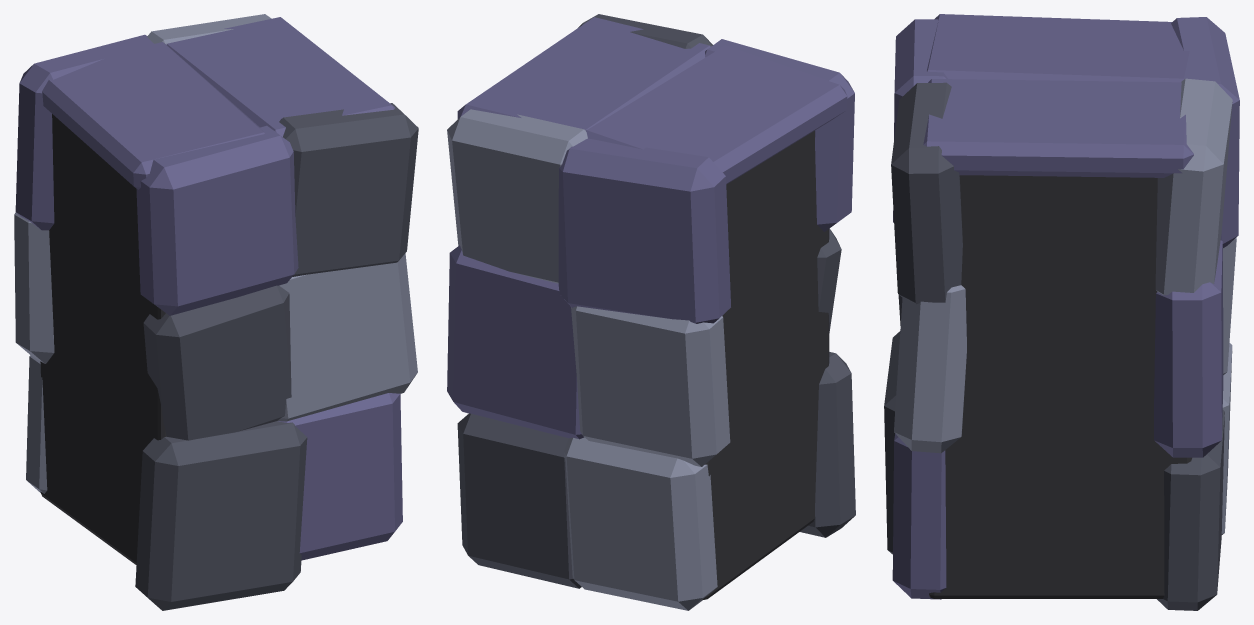
Rendered from mine-wall.glb.
3 views of the same model, side by side, from view 1: azimuth 30°, elevation 25°; view 2: azimuth 150°, elevation 25°; view 3: azimuth 270°, elevation 25° (orthographic). The views are drawn at different scales.
Parts seen in each view (by area): view 1: mine-wall; view 2: mine-wall; view 3: mine-wall.
Part boxes in pixels (x1,y1,x2,y2): mine-wall: (14, 14, 418, 610); mine-wall: (447, 14, 855, 610); mine-wall: (884, 14, 1239, 610).
Size of the model in its own units: 1.11 by 1.77 by 1.15.
1 material, 1 textured.
